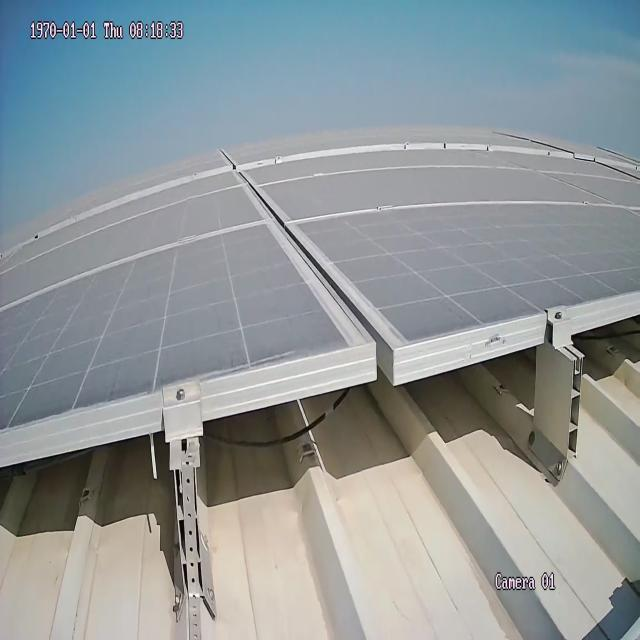interior panel: (2, 202, 629, 316), (233, 175, 396, 341)
outher panel: (0, 287, 640, 640)
